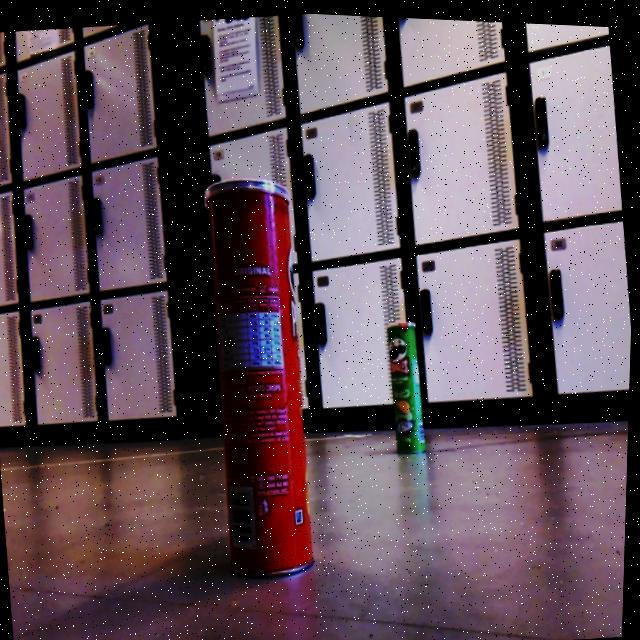greenpringles: (365, 290, 460, 478)
redpringles: (178, 150, 344, 612)
